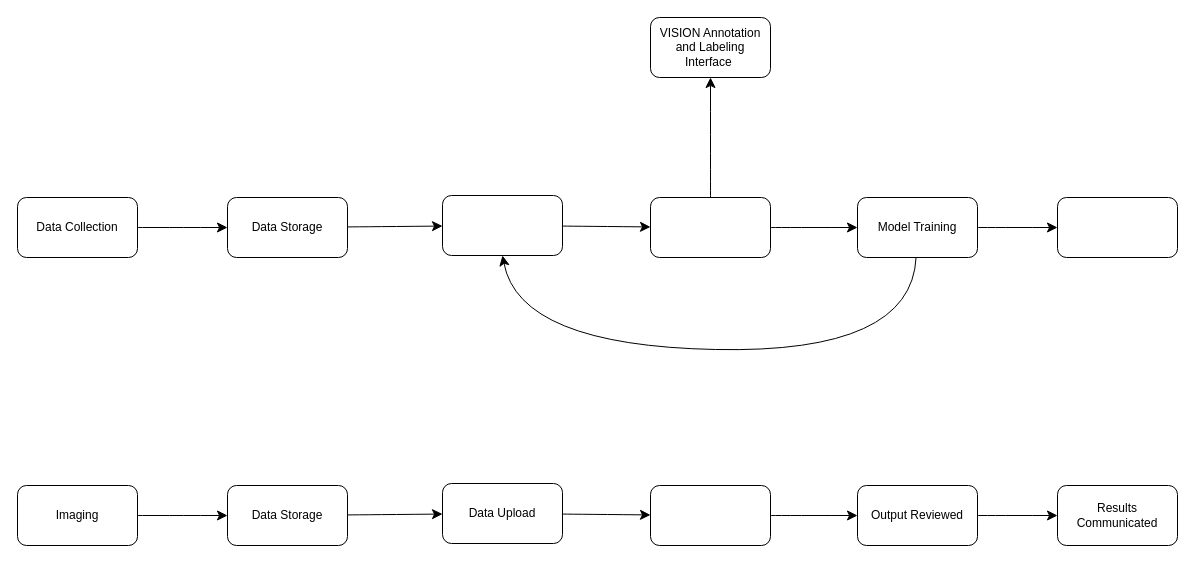
Image size: 1195x563. Some labels were removed from this diagram. Here are the shapes that lost their labels. From the top down, the centre of each, then its label:
the point at 502,225: Data Curation
the point at 710,227: Data Labeling
the point at 1117,227: Deployment
the point at 710,515: Model Selection
